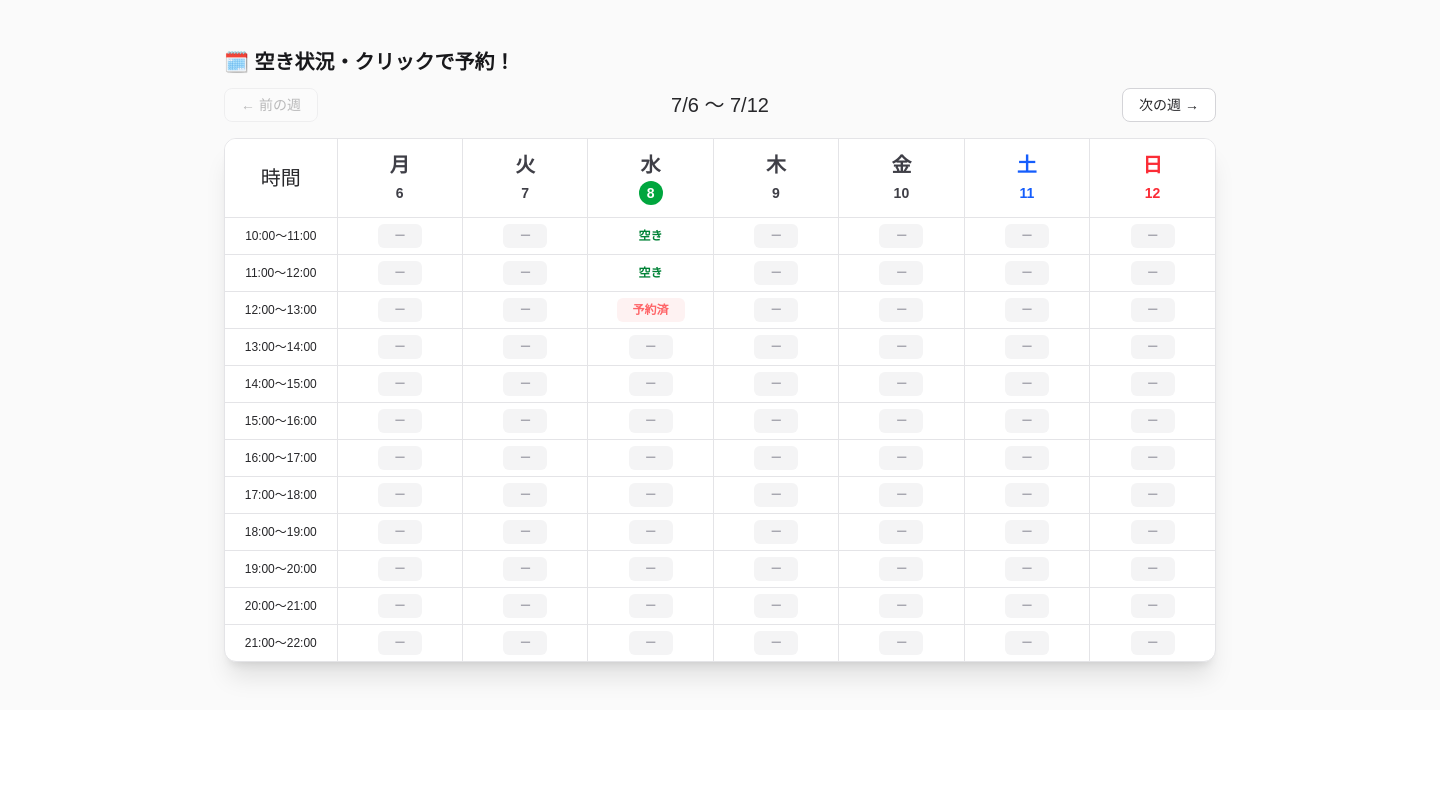
Test: WeeklyCalendar › 予約するボタンで送信し、成功するとモーダルが閉じる
The image size is (1440, 810).
Click the 1st cell "空き": (650, 236) [588,218,713,254]
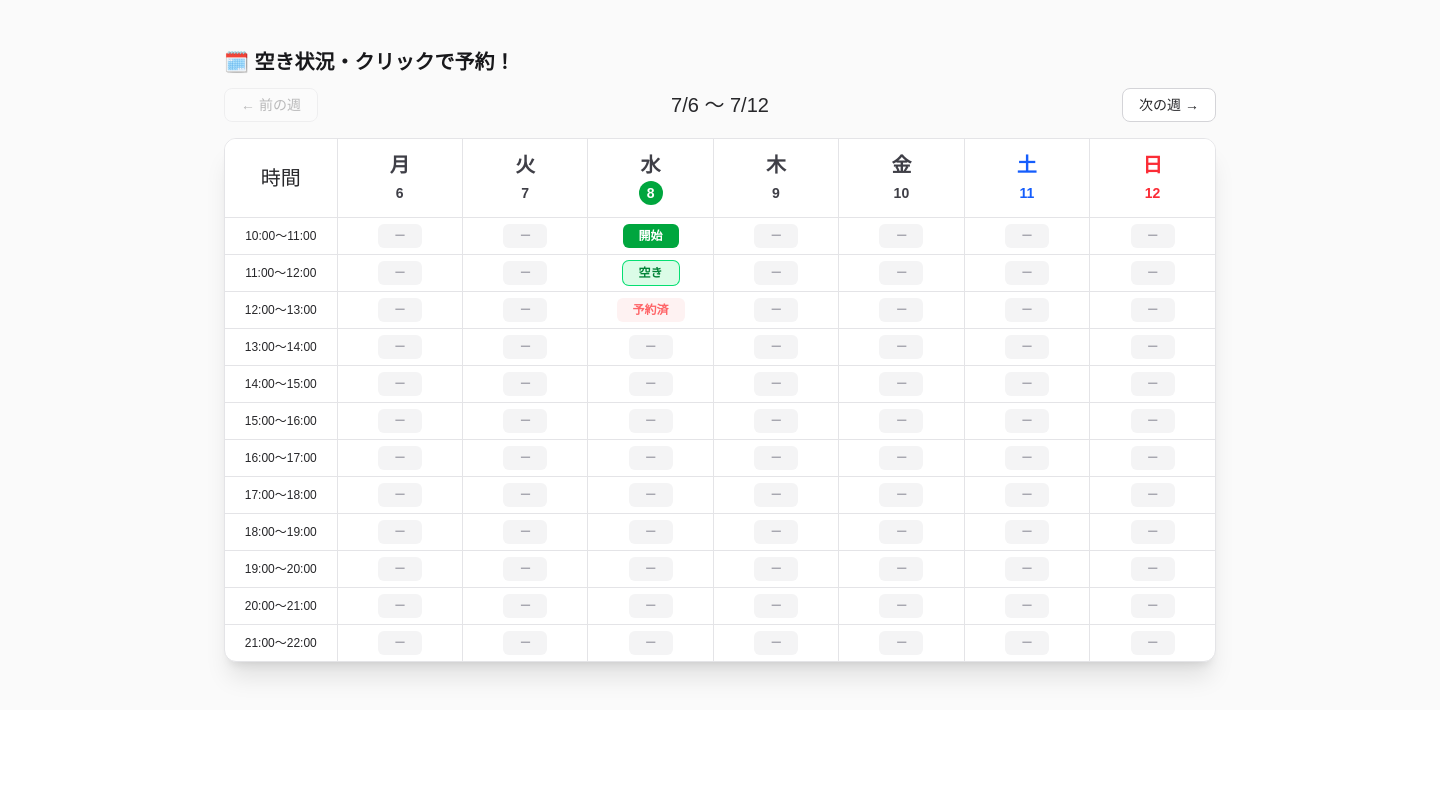
Click the cell "空き": (650, 273) [588,254,713,292]
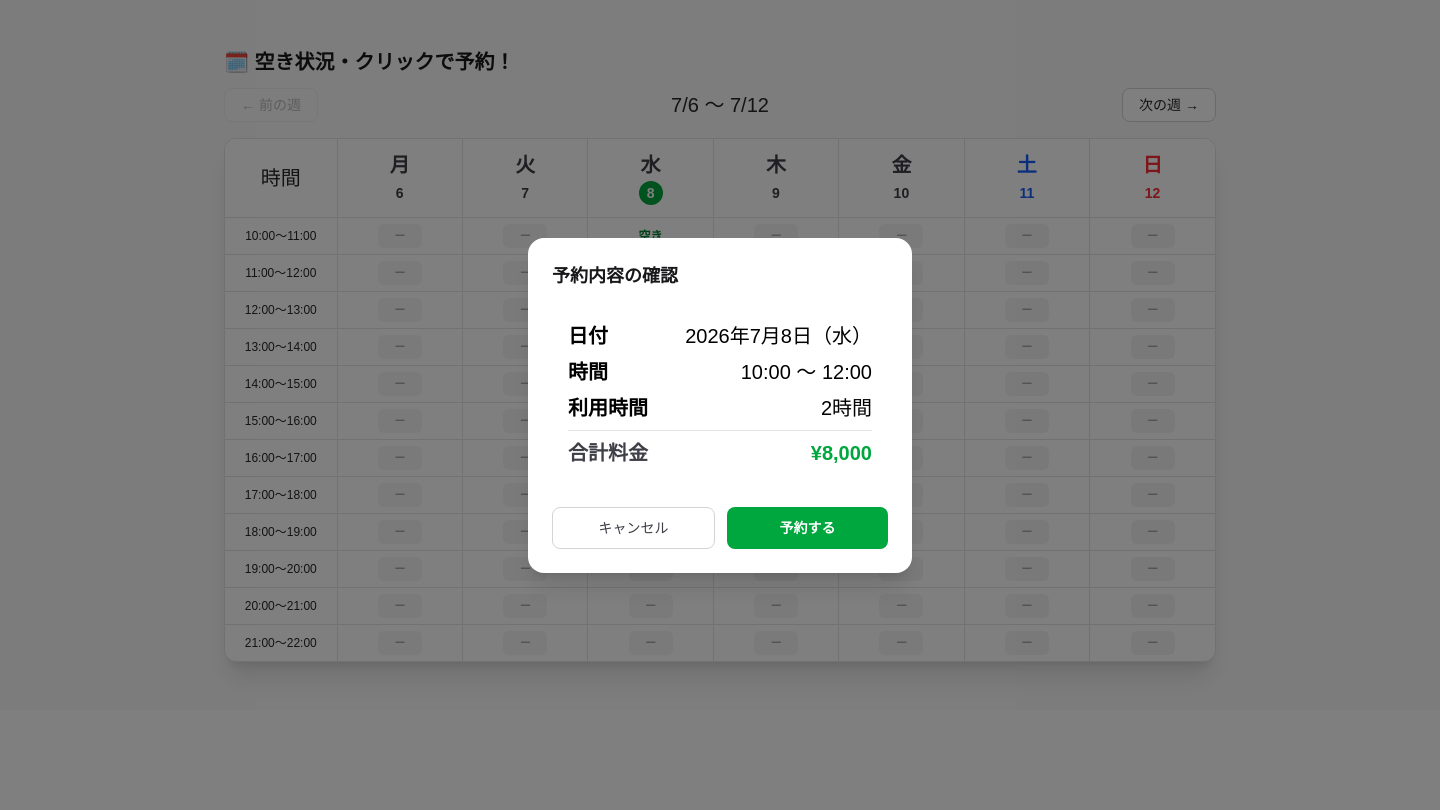
expect the heading "予約内容の確認" is shown: met, box [552,266,678,286]
Click the button "予約する": (808, 528) [727,506,888,548]
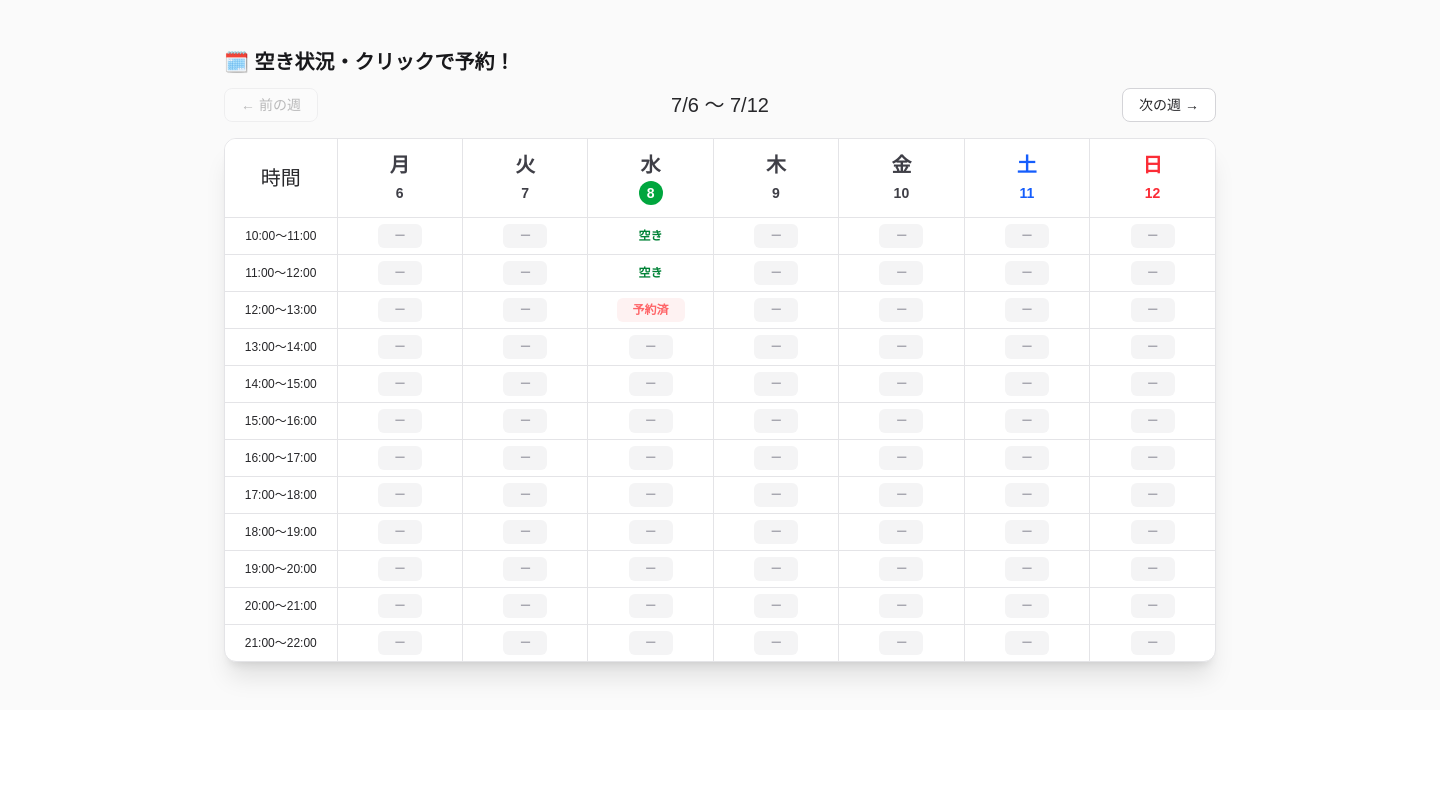
expect the heading "予約内容の確認" is gone: met
